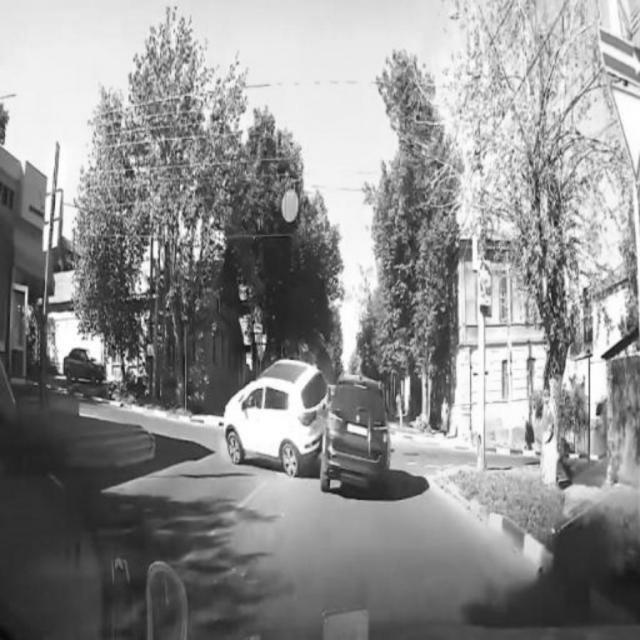accident: (222, 357, 396, 501)
